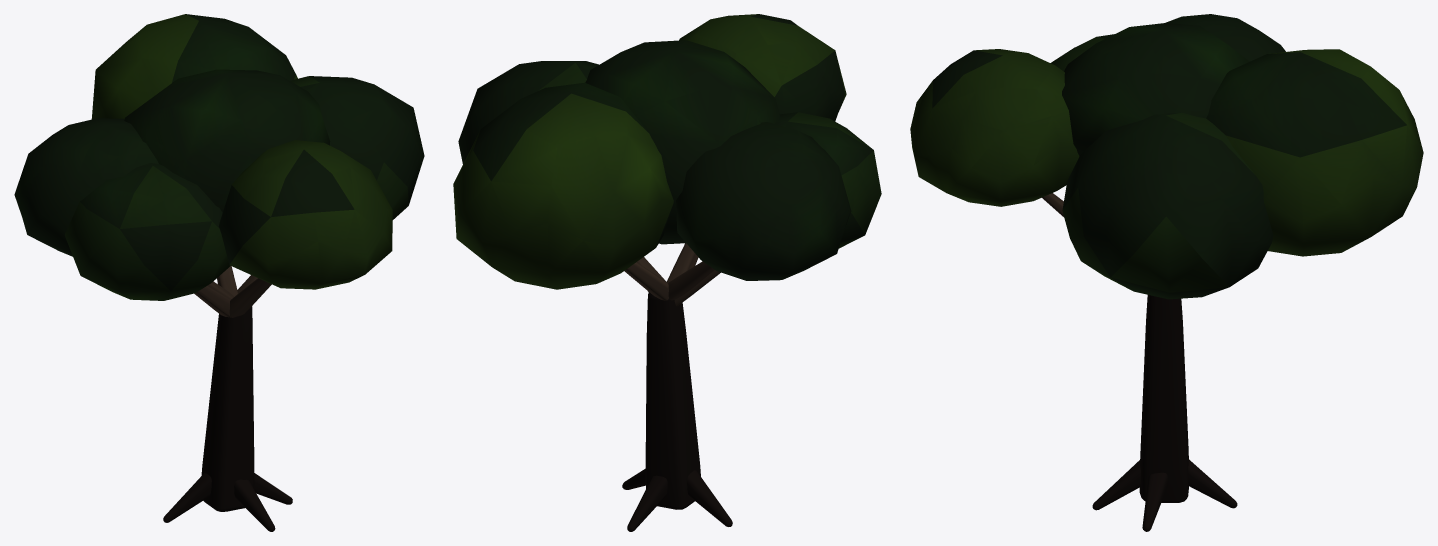
File: Arvore2B.fbx
3 renders of one model, left to right at view 1: azimuth 30°, elevation 25°; view 2: azimuth 150°, elevation 25°; view 3: azimuth 270°, elevation 25°, orthographic. The views are drawn at different scales.
Parts seen in each view (by area): view 1: Arvore2B; view 2: Arvore2B; view 3: Arvore2B.
Boxes of the visible parts, x1=… form: Arvore2B: x1=14, y1=14, x2=424, y2=531; Arvore2B: x1=453, y1=14, x2=881, y2=531; Arvore2B: x1=910, y1=14, x2=1423, y2=531.
Bounding box in the file's own units: 3.71 × 4.24 × 4.17.
